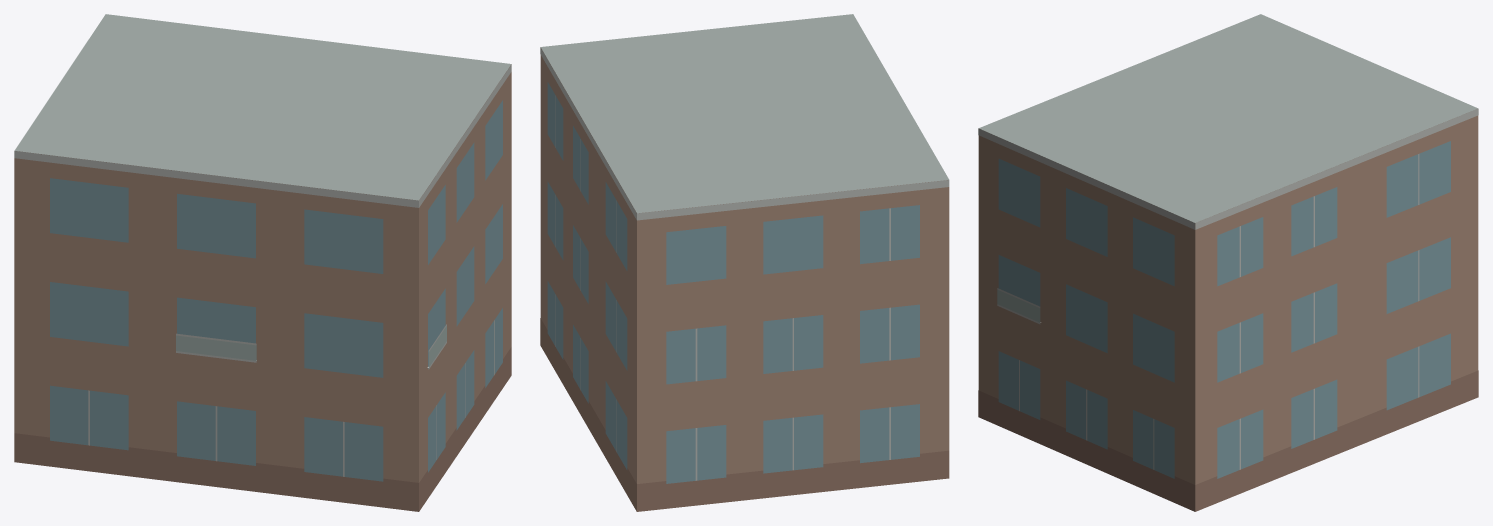
File: survey-upis-32774093.glb
3 views of the same model, side by side, from view 1: azimuth 30°, elevation 25°; view 2: azimuth 150°, elevation 25°; view 3: azimuth 270°, elevation 25° (orthographic). The views are drawn at different scales.
Parts seen in each view (by area): view 1: survey-upis-32774093.tmp; view 2: survey-upis-32774093.tmp; view 3: survey-upis-32774093.tmp.
Boxes of the visible parts, bbox=[...] form: survey-upis-32774093.tmp: bbox=[14, 14, 511, 511]; survey-upis-32774093.tmp: bbox=[540, 14, 949, 511]; survey-upis-32774093.tmp: bbox=[978, 14, 1478, 511].
Size of the model in its own units: 15.84 by 10.2 by 16.01.
